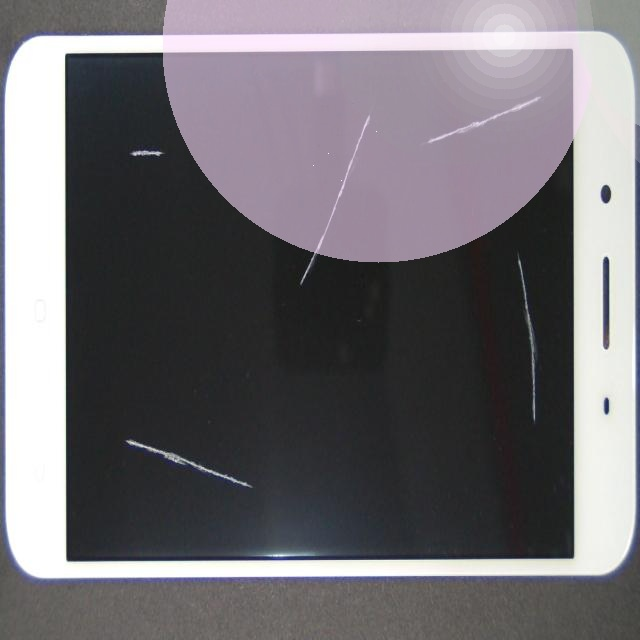scratch: (219, 0, 509, 239)
